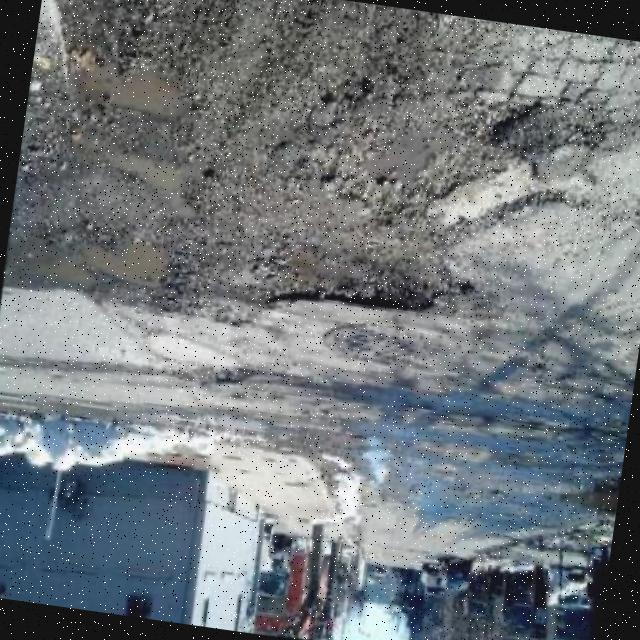Pothole: (6, 0, 604, 311)
